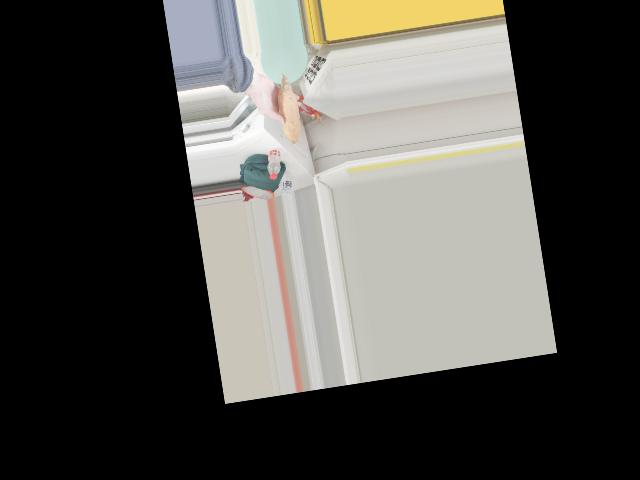sweet_potato: (276, 82, 299, 135)
